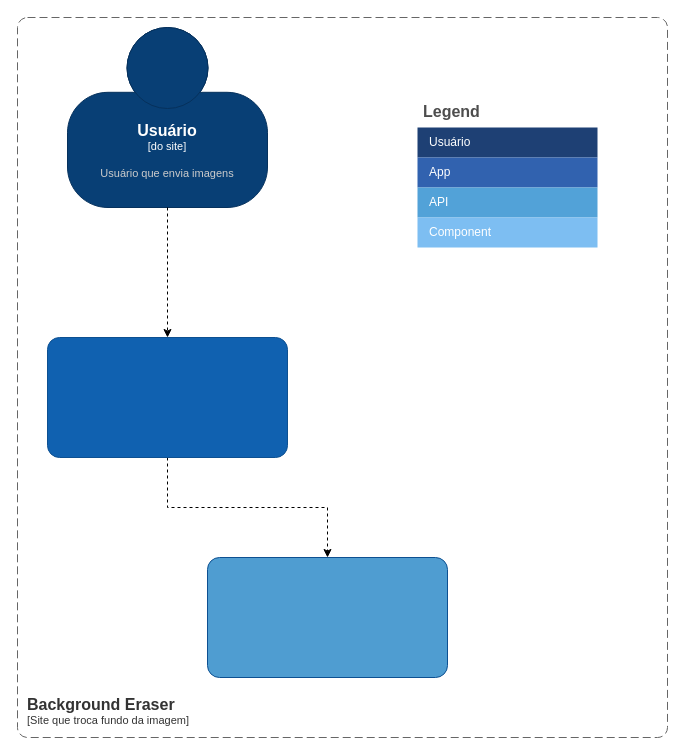
Some shapes in this 685 by 755 pixel diagram are drawn without their labels. Each missing label, with the centre of its shape:
Back-end [API] Back end responsavel por processar a imagem: [327,617]
Upload das imagens [App] Upload da imagem foreground e background: [167,397]
